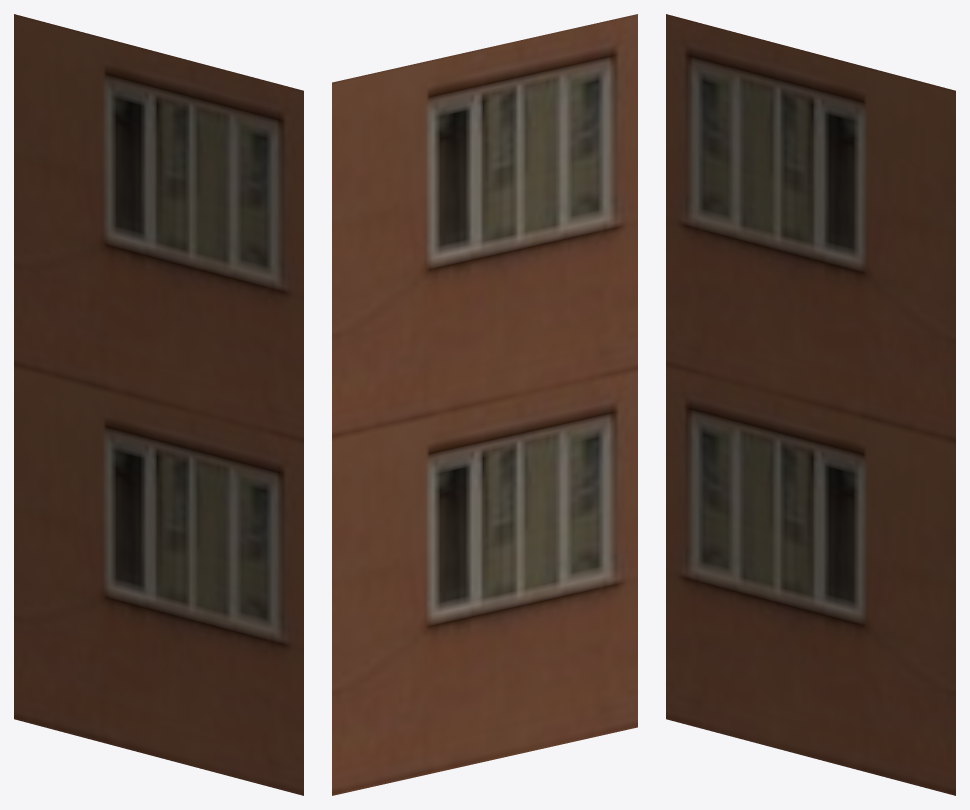
The model's file is ResTex__3897.fbx.
3 renders of one model, left to right at view 1: azimuth 90°, elevation 25°; view 2: azimuth 150°, elevation 25°; view 3: azimuth 270°, elevation 25°, orthographic.
Visible parts, largest first — view 1: CityEngineMaterial_20_m; view 2: CityEngineMaterial_20_m; view 3: CityEngineMaterial_20_m.
Boxes of the visible parts, box(x1,y1,x2,y2) form: CityEngineMaterial_20_m: box(14, 14, 303, 795); CityEngineMaterial_20_m: box(332, 14, 637, 795); CityEngineMaterial_20_m: box(666, 14, 955, 795).
Size of the model in its own units: 1.4 by 6 by 2.24.
Materials: 1 (1 with a texture image).
